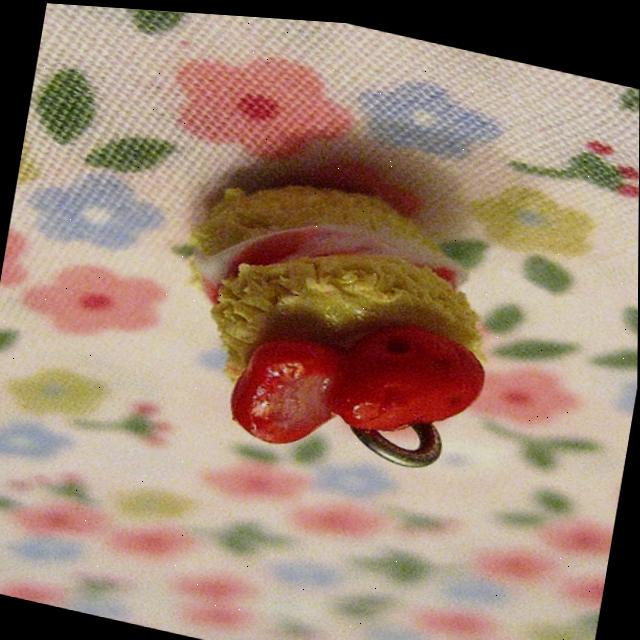蛋糕甜品: (90, 51, 547, 593)
